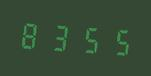eight: (18, 16, 45, 53)
five: (74, 19, 101, 57), (102, 21, 129, 59)
three: (46, 18, 73, 55)
